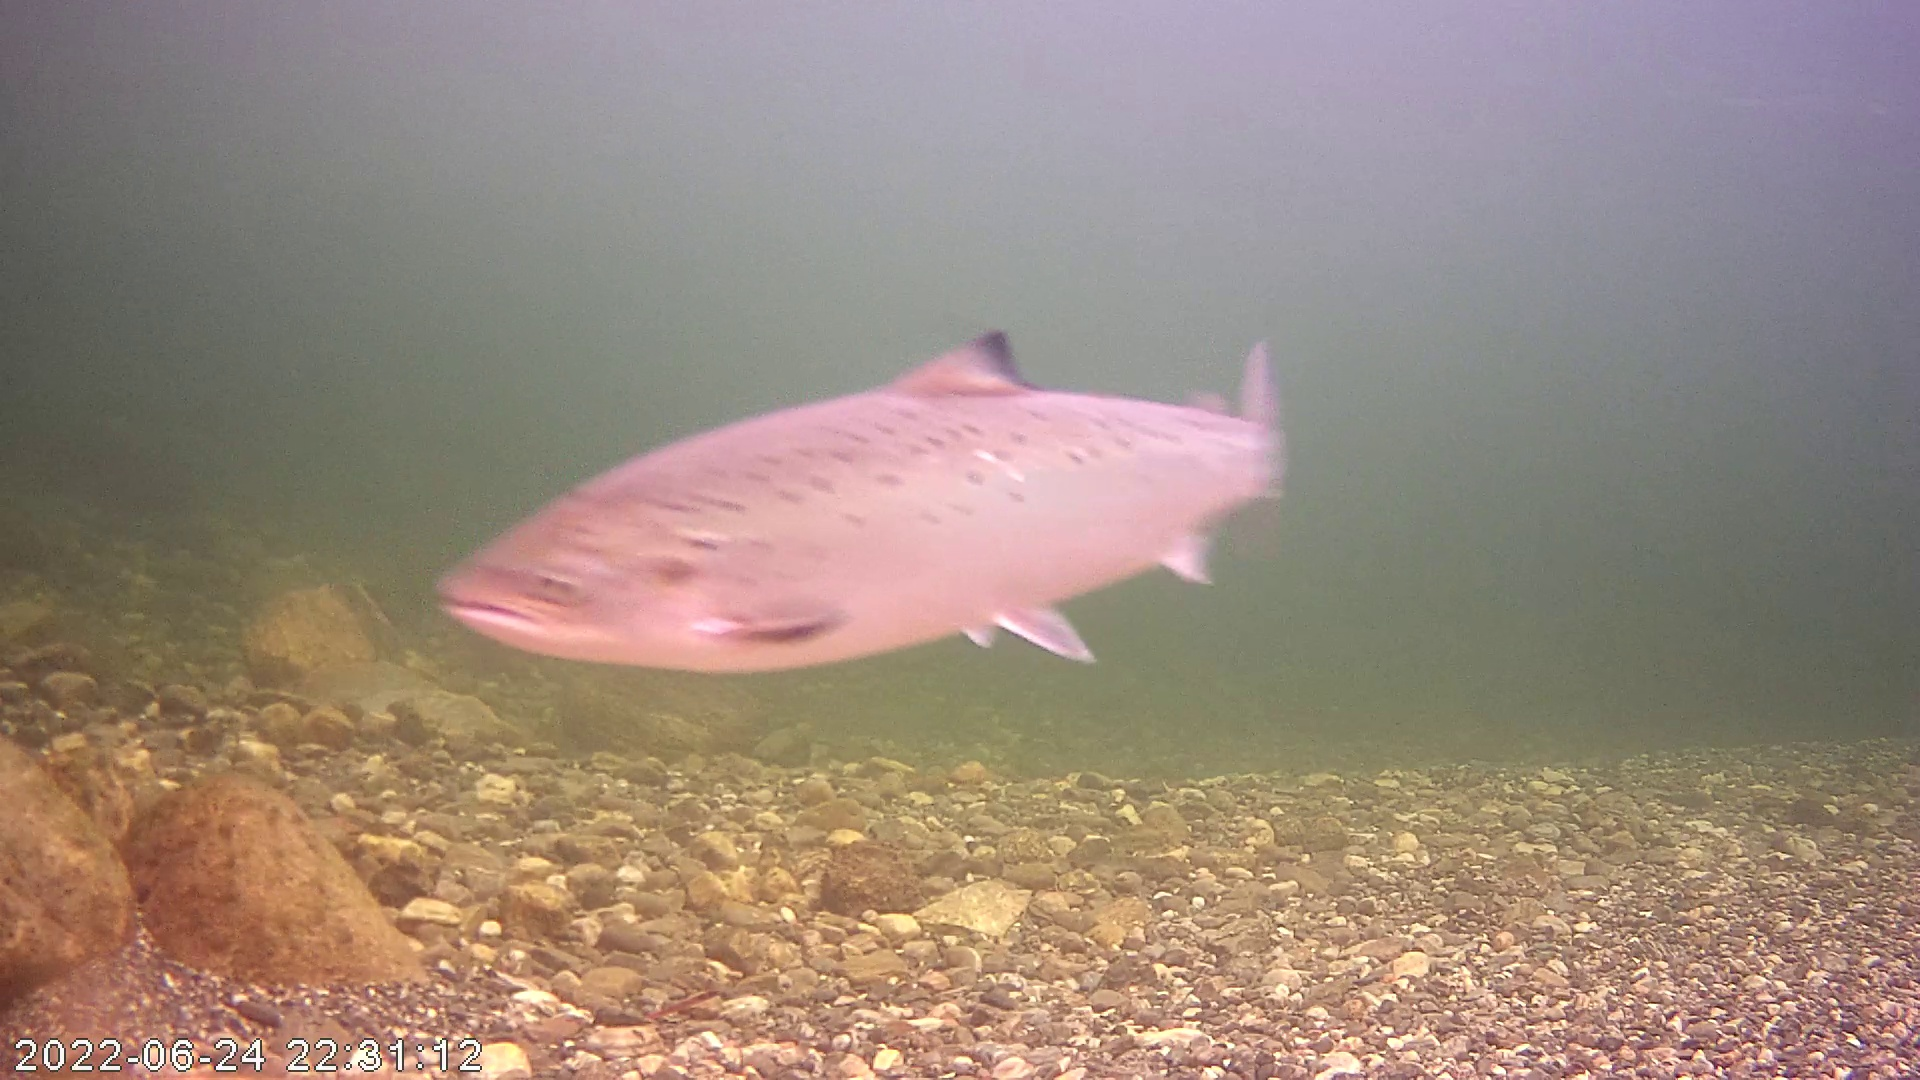salmon: (434, 324, 1288, 678)
